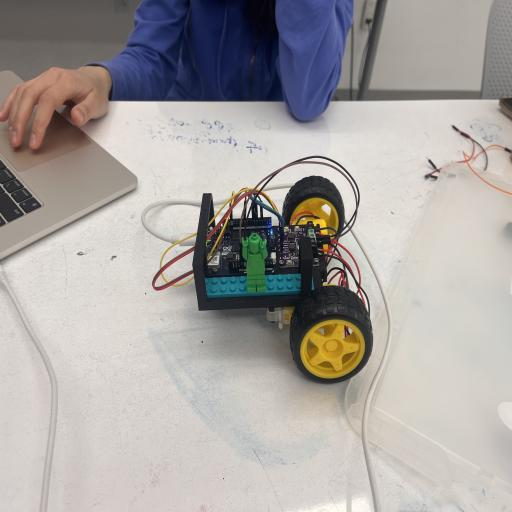Lego-Minifig: (242, 233, 267, 292)
